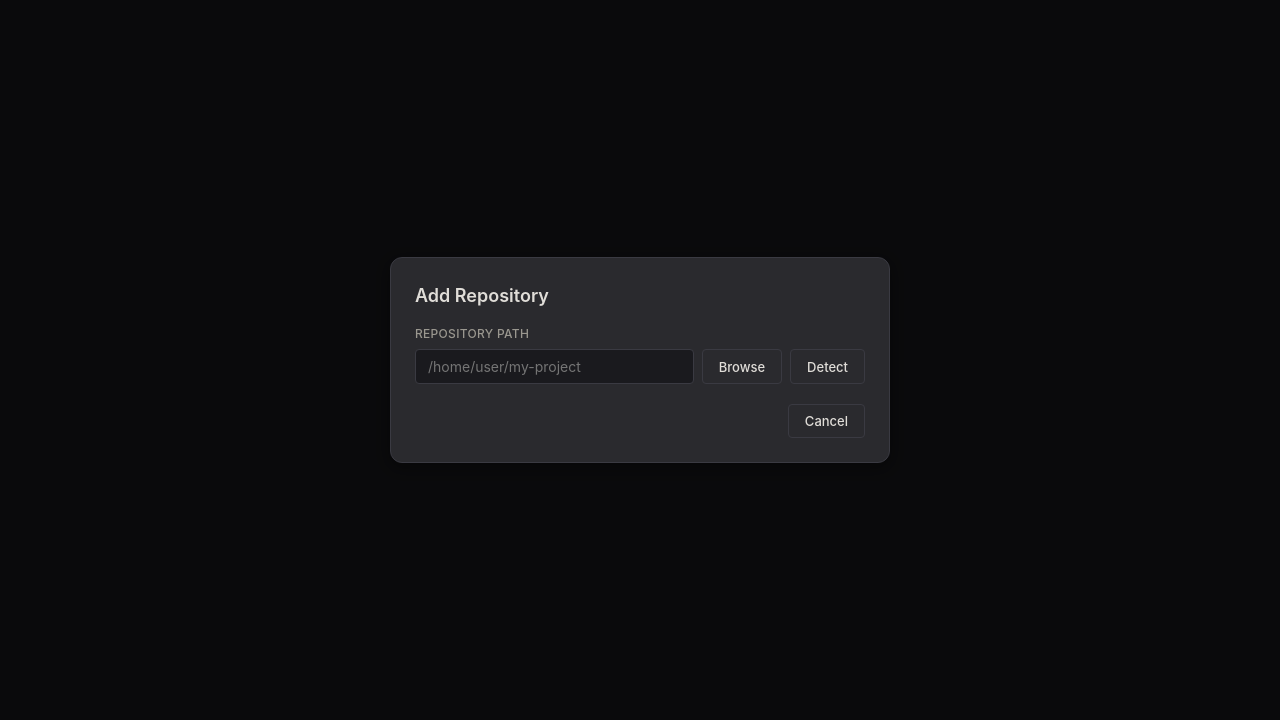
Test: AddRepoModal › shows error when detection fails
Type "/bad/path" into the field with placeholder "/home/user/my-project" at (554, 366), box [415,349,694,384]
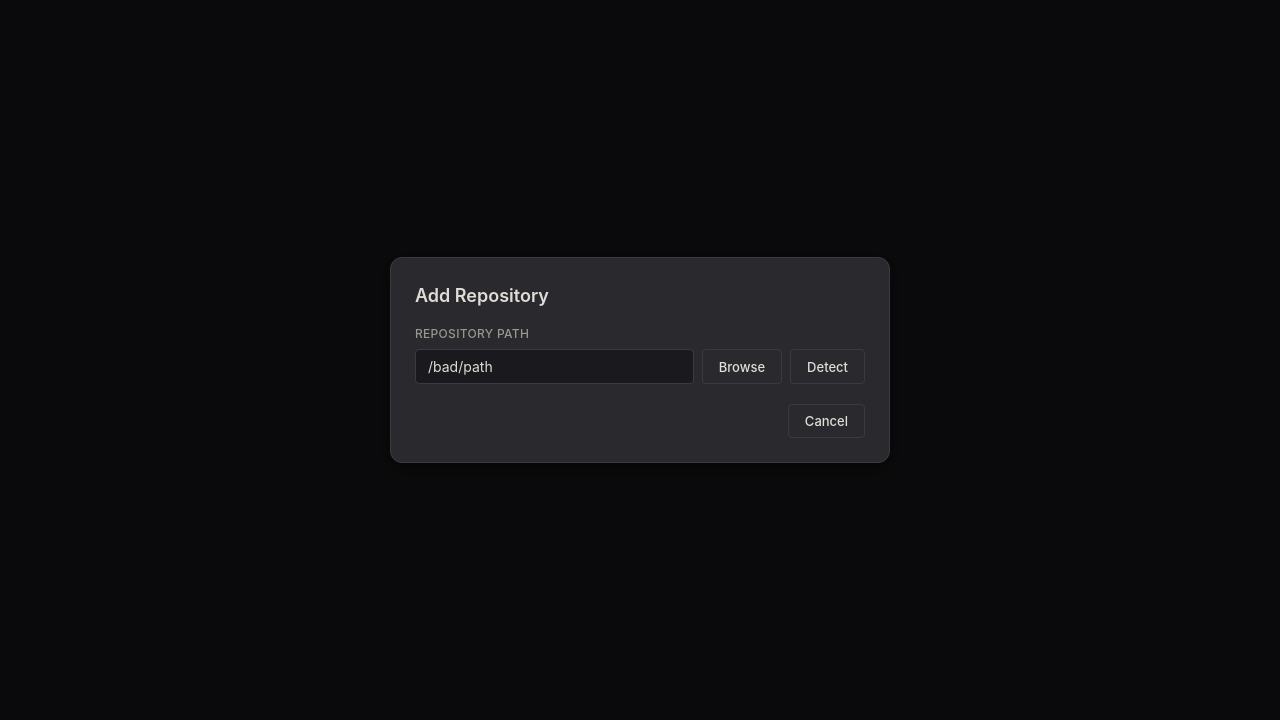
Click the button "Detect" at (828, 366), box [790,349,865,384]
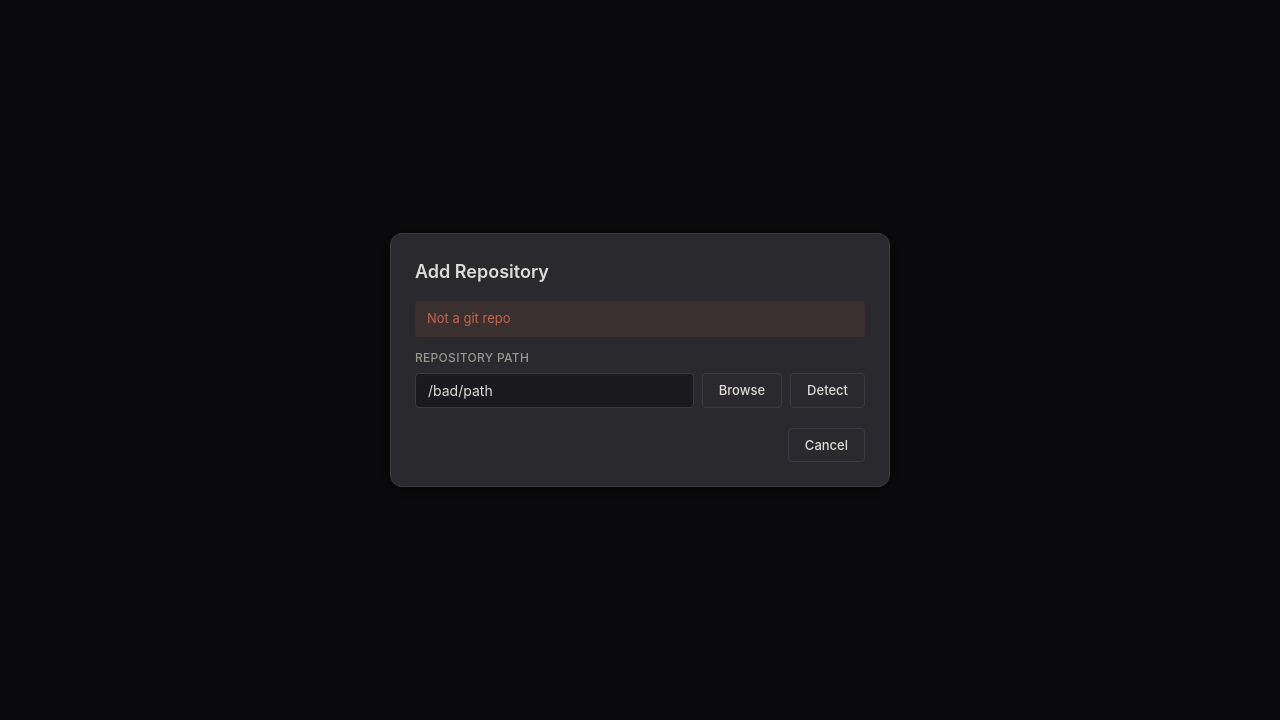
Result: the text "Not a git repo" is shown at [415,301,865,337]
